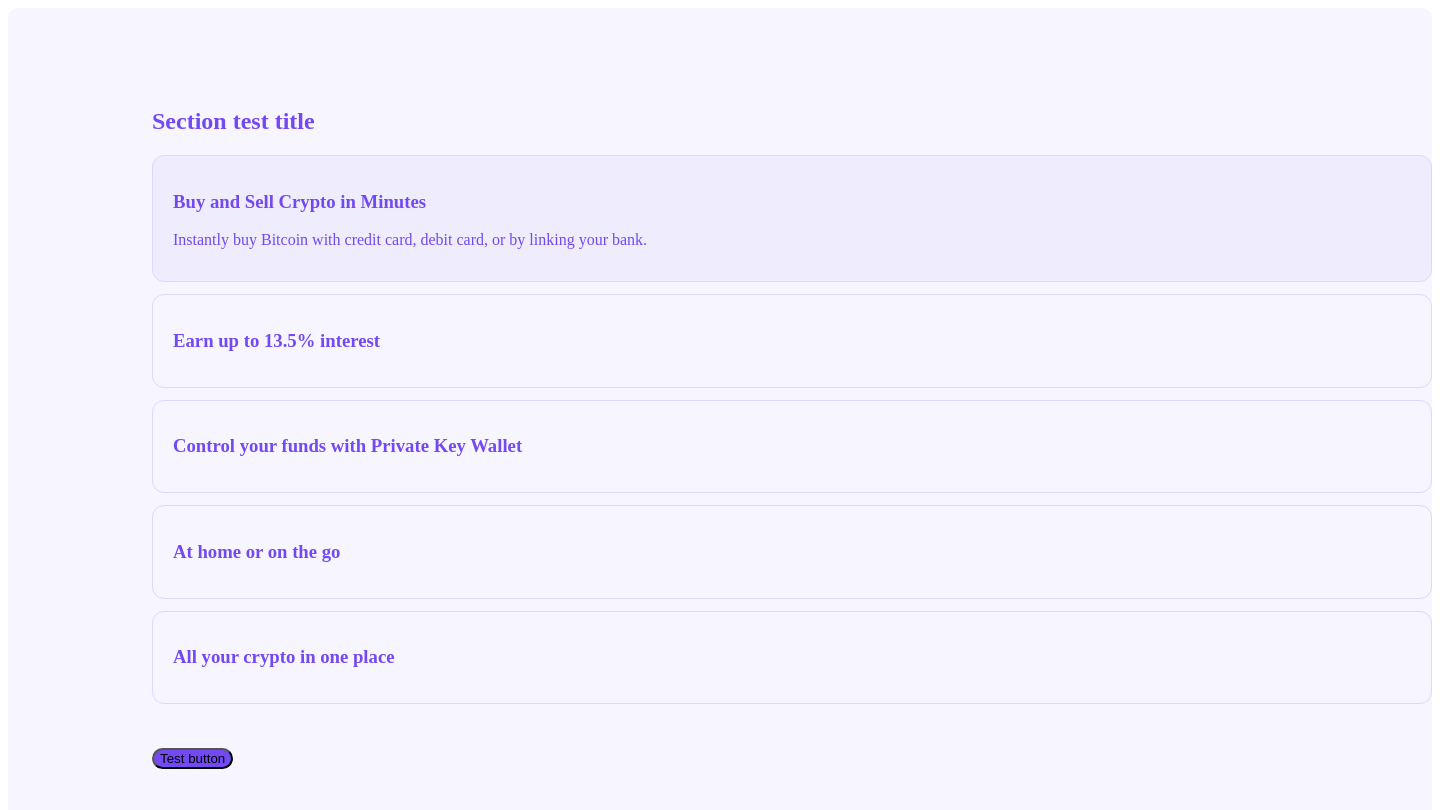
Scenario: clicking on a feature will display the description
Check: the text "Instantly buy Bitcoin with credit card, debit card, or by linking your bank." is shown, box [173,231,647,248]
Check: the text "Fund an Interest Account with crypto and watch it grow." is not shown
Click the heading "Earn up to 13.5% interest" at point(276, 340), box [173,330,380,351]
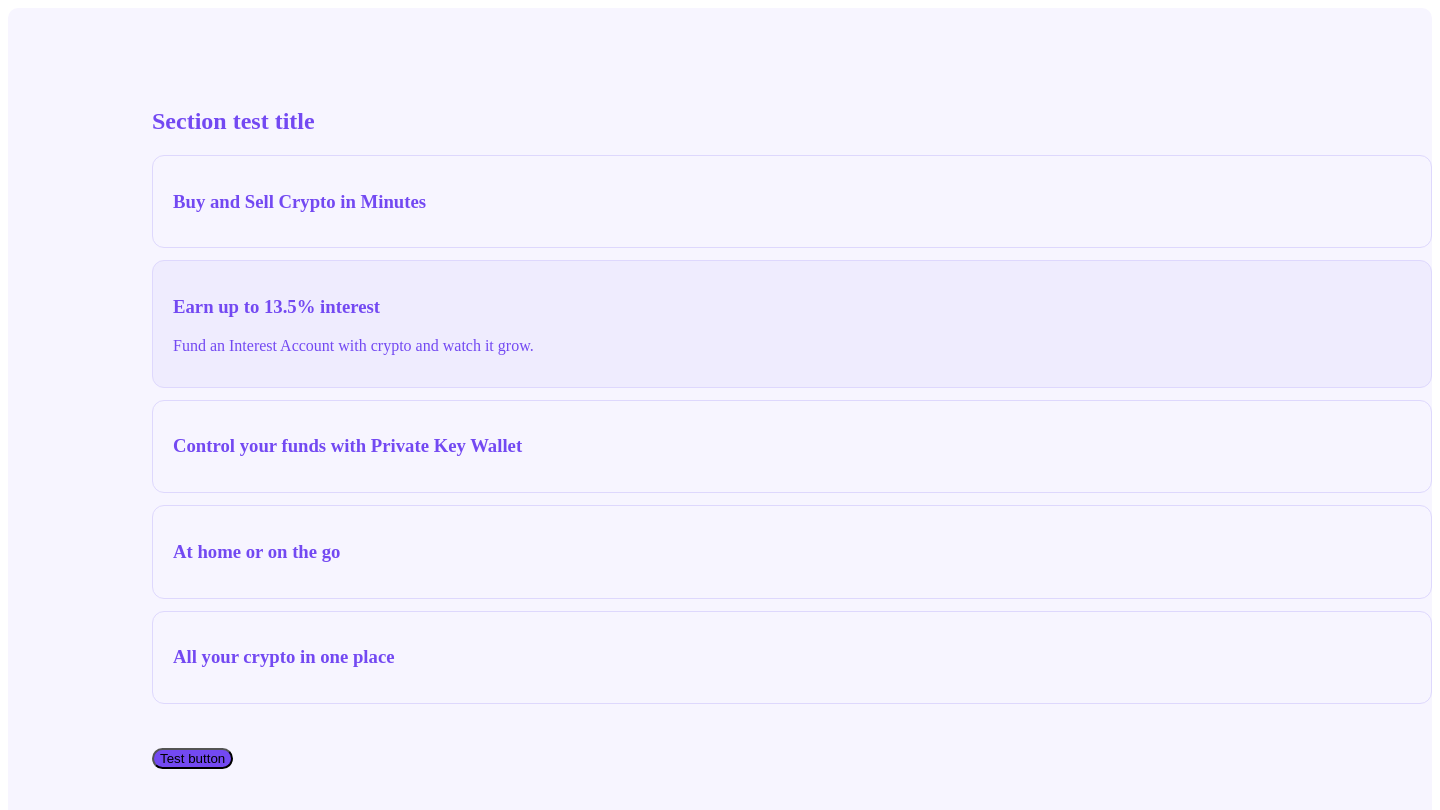
Check: the text "Fund an Interest Account with crypto and watch it grow." is shown, box [173,337,534,354]
Check: the text "Instantly buy Bitcoin with credit card, debit card, or by linking your bank." is gone
